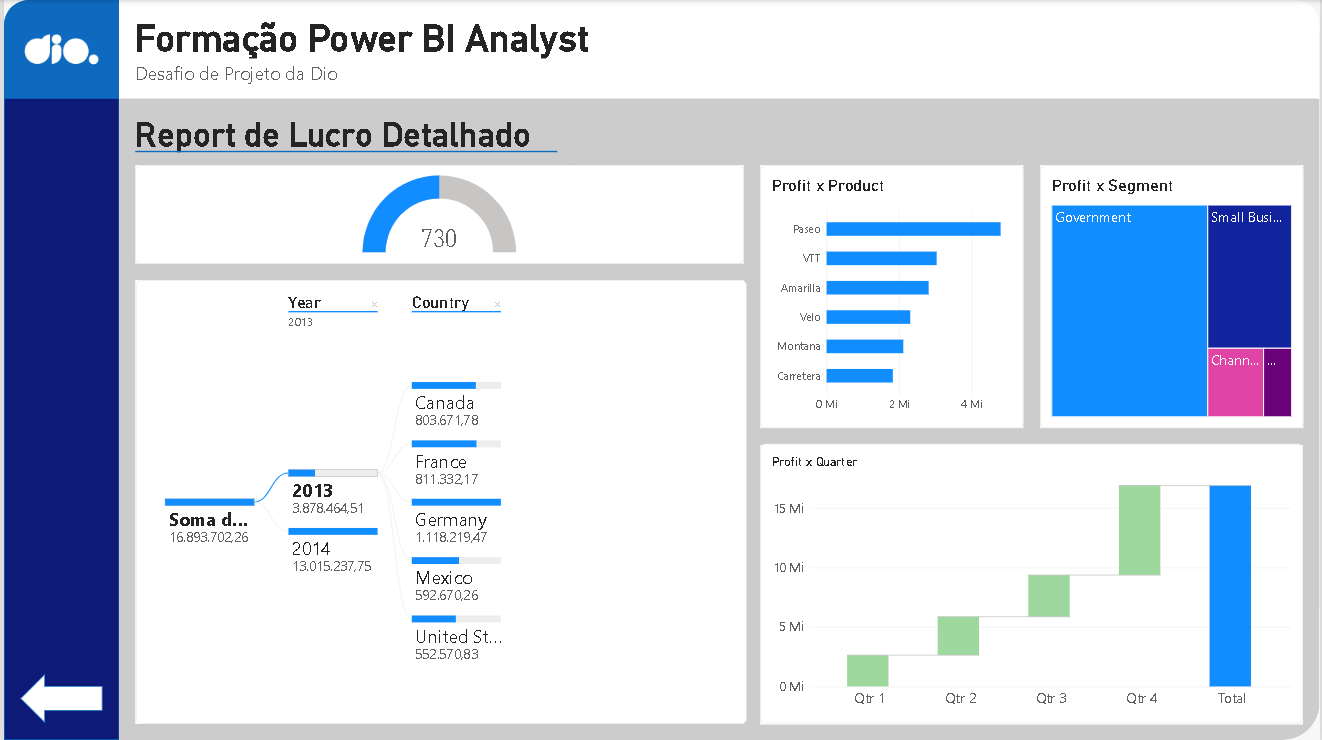

The page's visual inventory and layout, read from the dashboard file:
{"tool":"powerbi","page":{"name":"Página 2","canvas":[1920,1080],"ordinal":1},"visuals":[{"type":"shape","box":[0,0,1920,1080],"z":0,"group":"g1"},{"type":"group","id":"g1","title":"Base_pag","box":[0,0,1920,1080],"z":0},{"type":"shape","box":[168,0,1752,144],"z":0,"group":"g2"},{"type":"textbox","title":"Report de Lucro Detalhado","box":[192,168,640.4,72],"z":0,"group":"g3"},{"type":"shape","box":[192,240,888,144],"z":0,"group":"g4"},{"type":"shape","box":[0,0,168,1080],"z":1000,"group":"g1"},{"type":"group","id":"g2","title":"Tit_Formação","box":[168,0,1752,336],"z":1000},{"type":"textbox","title":"Formação Power BI Analyst","box":[192,24,768,312],"z":1000,"group":"g2"},{"type":"shape","box":[192,72,615.8,300],"z":1000,"group":"g3"},{"type":"shape","box":[192,408,888,648],"z":1000,"group":"g4"},{"type":"shape","box":[0,0,168,144],"z":2000,"group":"g1"},{"type":"group","id":"g3","title":"Sub_Sales Report","box":[192,72,624,288],"z":2000},{"type":"shape","box":[1104,240,384,384],"z":2000,"group":"g4"},{"type":"image","box":[0,0,168,144],"z":3000,"group":"g1"},{"type":"group","id":"g4","title":"Retângulos","box":[192,240,1704,816],"z":3000},{"type":"shape","box":[1512,240,384,384],"z":3000,"group":"g4"},{"type":"decompositionTreeVisual","fields":{"Analyze":["Sum(Sheet1.Profit)"],"ExplainBy":["Sheet1.Date.Variation.Date Hierarchy.Year","Sheet1.Country"]},"box":[193,408,890,648],"z":3001},{"type":"treemap","title":"Profit x Segment","fields":{"Group":["Sheet1.Segment"],"Values":["Sum(Sheet1.Profit)"]},"box":[1512,240,384,384],"z":3002},{"type":"waterfallChart","title":"Profit x Quarter","fields":{"Category":["Sheet1.Date.Variation.Date Hierarchy.Quarter"],"Y":["Sum(Sheet1.Profit)"]},"box":[1104,648,792,408],"z":3003},{"type":"clusteredBarChart","title":" Profit x Product","fields":{"Category":["Sheet1.Product"],"Y":["Sum(Sheet1.Profit)"]},"box":[1104,240,384,384],"z":3004},{"type":"gauge","fields":{"Y":["CountNonNull(Sheet1.Date.Variation.Date Hierarchy.Year)"]},"box":[192,240,888,144],"z":3005},{"type":"shape","box":[24,984,120,72],"z":3006},{"type":"shape","box":[1104,648,792,408],"z":4000,"group":"g4"}]}

Visuals, with their boxes in screenshot pixels (x1, y1, x2, y2), scaled from the page's 1920x1080 canvas onto the 1322x740 screenshot:
shape: [left=0, top=0, right=1321, bottom=739]
"Base_pag" group: [left=0, top=0, right=1321, bottom=739]
shape: [left=116, top=0, right=1321, bottom=99]
"Report de Lucro Detalhado" textbox: [left=132, top=115, right=573, bottom=164]
shape: [left=132, top=164, right=744, bottom=263]
shape: [left=0, top=0, right=116, bottom=739]
"Tit_Formação" group: [left=116, top=0, right=1321, bottom=230]
"Formação Power BI Analyst" textbox: [left=132, top=16, right=661, bottom=230]
shape: [left=132, top=49, right=556, bottom=255]
shape: [left=132, top=280, right=744, bottom=724]
shape: [left=0, top=0, right=116, bottom=99]
"Sub_Sales Report" group: [left=132, top=49, right=562, bottom=247]
shape: [left=760, top=164, right=1025, bottom=428]
image: [left=0, top=0, right=116, bottom=99]
"Retângulos" group: [left=132, top=164, right=1305, bottom=724]
shape: [left=1041, top=164, right=1305, bottom=428]
decompositionTreeVisual - Sum(Sheet1.Profit) x Sheet1.Date.Variation.Date Hierarchy.Year: [left=133, top=280, right=746, bottom=724]
"Profit x Segment" treemap: [left=1041, top=164, right=1305, bottom=428]
"Profit x Quarter" waterfallChart: [left=760, top=444, right=1305, bottom=724]
" Profit x Product" clusteredBarChart: [left=760, top=164, right=1025, bottom=428]
gauge - CountNonNull(Sheet1.Date.Variation.Date Hierarchy.Year): [left=132, top=164, right=744, bottom=263]
shape: [left=17, top=674, right=99, bottom=724]
shape: [left=760, top=444, right=1305, bottom=724]
